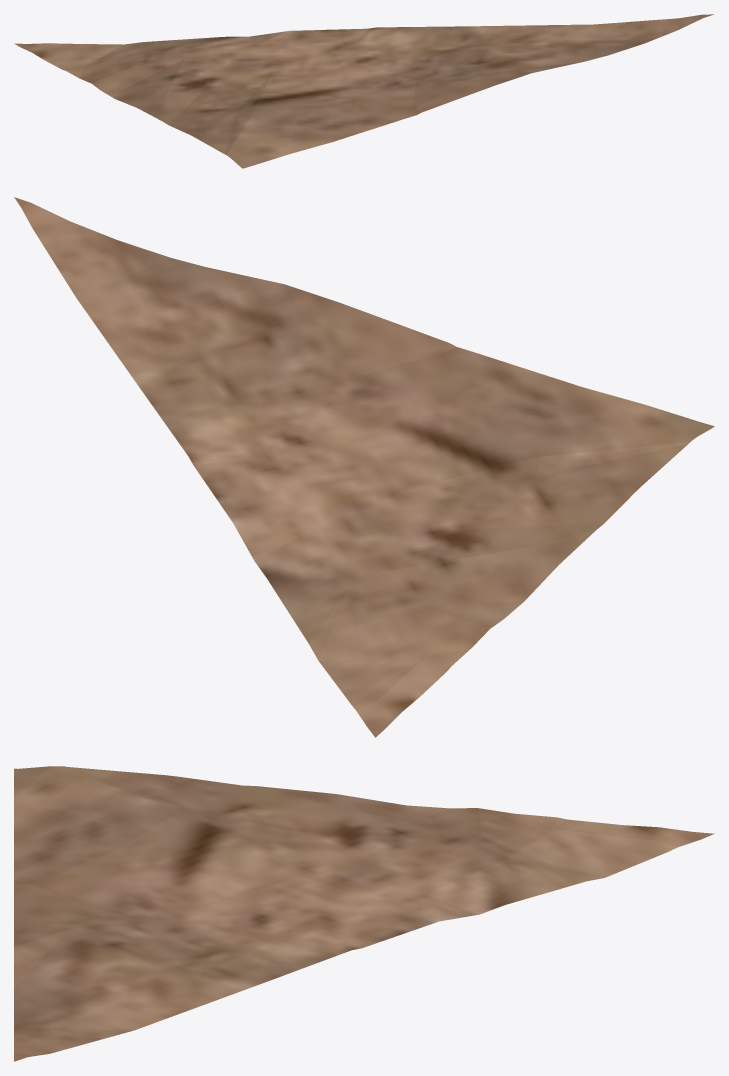
The picture shows the model from 3 angles, top to bottom: view 1: azimuth 30°, elevation 25°; view 2: azimuth 150°, elevation 25°; view 3: azimuth 270°, elevation 25°; orthographic projection. The views are drawn at different scales.
Size of the model in its own units: 4.93 by 0.8145 by 4.14.
1 material, 1 textured.
